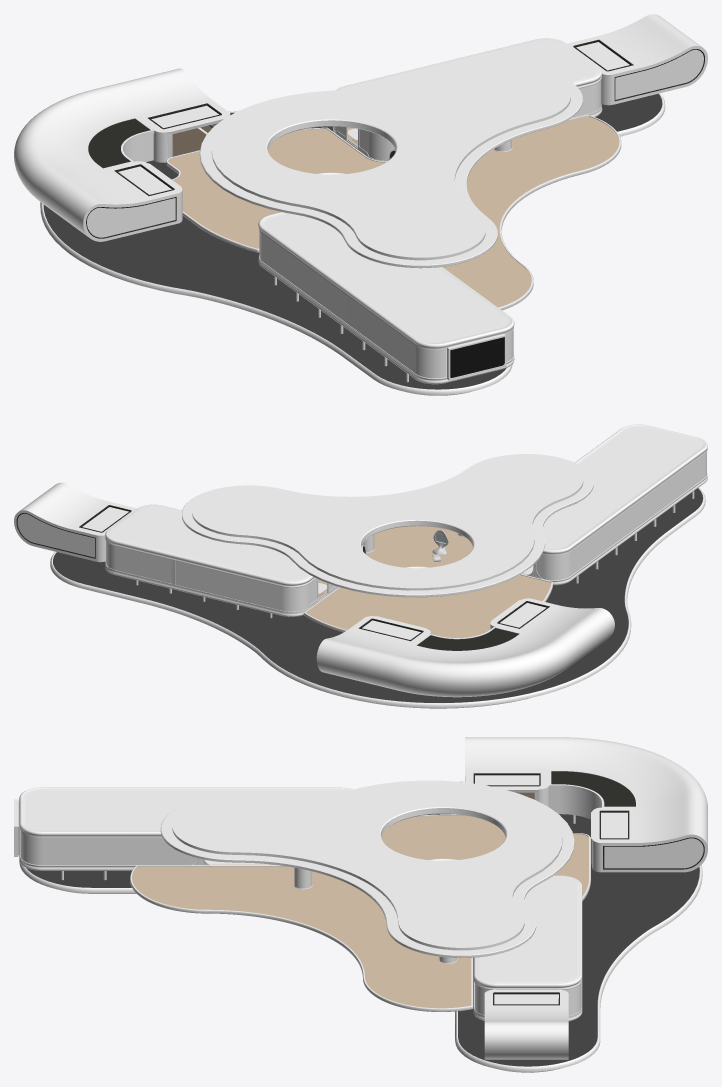
The model's file is skycityNew.gltf.
The picture shows the model from 3 angles, top to bottom: view 1: azimuth 30°, elevation 25°; view 2: azimuth 150°, elevation 25°; view 3: azimuth 270°, elevation 25°; orthographic projection. The views are drawn at different scales.
Visible parts, largest first — view 1: Skycity, SchuleGlass, Booth_Curved, Booth_Klein.002, Booth_Klein.005, HQ_Glass, Booth_Klein.001, Schule, TV_Frame, HQ; view 2: Skycity, SchuleGlass, HQ_Glass, Booth_Curved, Booth_Klein.005, Booth_Klein.001, Booth_Klein.002, HQ, Schule; view 3: Skycity, SchuleGlass, Booth_Curved, Booth_Klein.001, HQ_Glass, Booth_Klein.005, Booth_Klein.002, Schule, HQ.
Boxes of the visible parts, box(x1,y1,x2,y2) form: Skycity: box(40, 66, 665, 395); SchuleGlass: box(259, 213, 513, 378); Booth_Curved: box(14, 86, 154, 205); Booth_Klein.002: box(40, 161, 182, 241); Booth_Klein.005: box(567, 14, 707, 105); HQ_Glass: box(333, 39, 601, 160); Booth_Klein.001: box(105, 68, 230, 162); Schule: box(258, 212, 514, 384); TV_Frame: box(447, 333, 506, 380); HQ: box(333, 38, 602, 161); Skycity: box(50, 454, 705, 708); SchuleGlass: box(523, 426, 706, 580); HQ_Glass: box(106, 505, 334, 611); Booth_Curved: box(382, 626, 576, 697); Booth_Klein.005: box(14, 482, 136, 562); Booth_Klein.001: box(316, 616, 430, 687); Booth_Klein.002: box(490, 598, 614, 664); HQ: box(105, 504, 338, 618); Schule: box(521, 424, 707, 585); Skycity: box(19, 780, 702, 1072); SchuleGlass: box(20, 789, 348, 865); Booth_Curved: box(549, 737, 707, 823); Booth_Klein.001: box(591, 799, 707, 872); HQ_Glass: box(474, 876, 581, 1015); Booth_Klein.005: box(484, 989, 568, 1059); Booth_Klein.002: box(465, 737, 549, 806); Schule: box(19, 787, 353, 880); HQ: box(473, 875, 582, 1021).
Size of the model in its own units: 66.34 by 11.6 by 64.49.
Materials: 6 (5 with a texture image).
